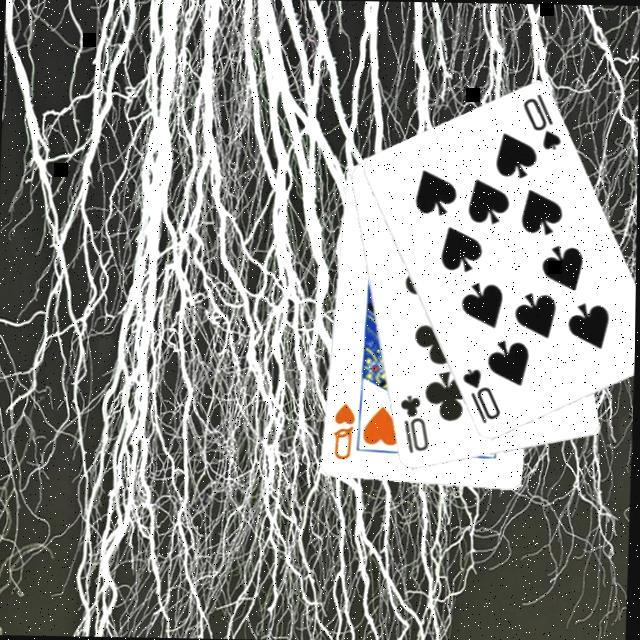10C: (394, 392, 432, 459)
10S: (516, 92, 564, 156), (456, 367, 504, 429)
QH: (329, 402, 358, 464)
